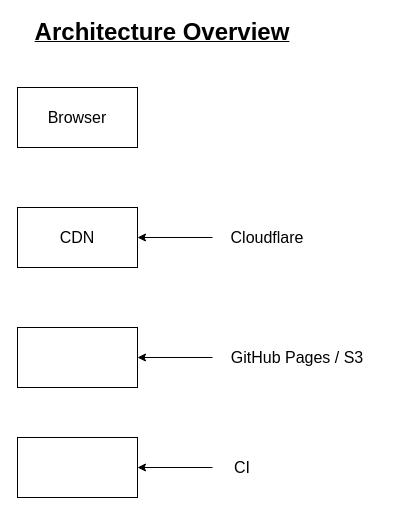
Some shapes in this 400 by 515 pixel diagram are drawn without their labels. The box of each missing label's shape, as (x1, y1, x2, y2) in pixels:
Build System: (16, 436, 138, 498)
Static Host: (16, 326, 138, 388)
